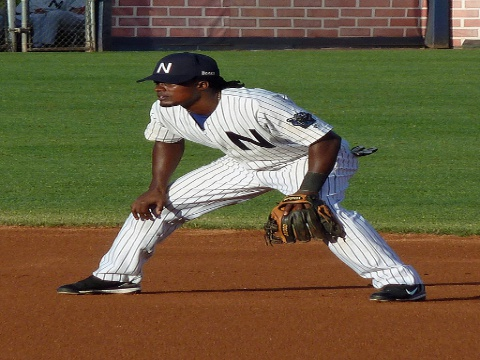hand: (129, 190, 167, 221)
